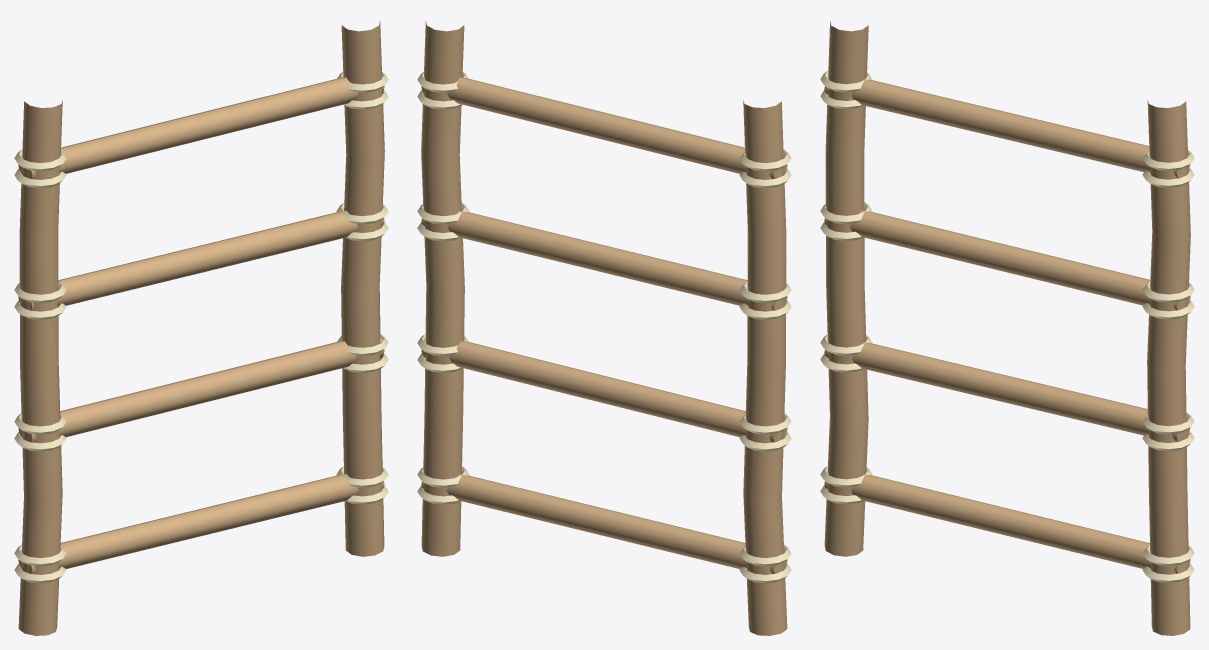
The model's file is ladder.glb.
3 renders of one model, left to right at view 1: azimuth 30°, elevation 25°; view 2: azimuth 150°, elevation 25°; view 3: azimuth 330°, elevation 25°, orthographic.
Parts seen in each view (by area): view 1: ladder; view 2: ladder; view 3: ladder.
Part boxes in pixels (bbox=[...]): ladder: bbox=[14, 21, 388, 635]; ladder: bbox=[417, 21, 791, 635]; ladder: bbox=[820, 21, 1194, 635].
Size of the model in its own units: 0.73 by 1 by 0.09.
